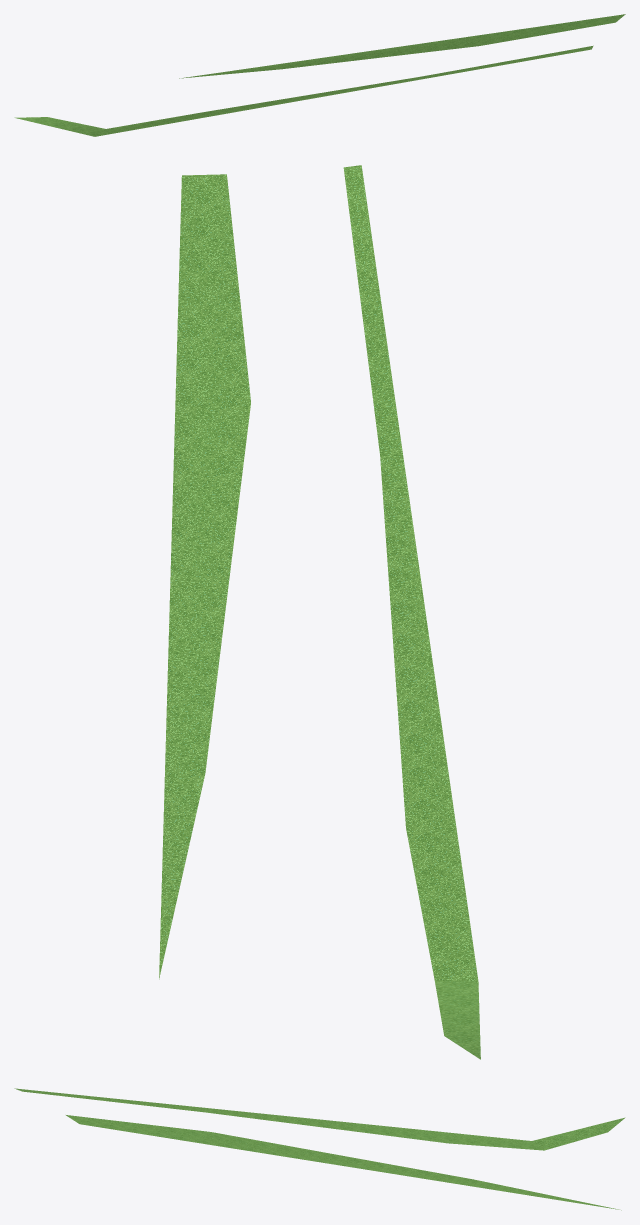
File: kd_stage_1364a3_7_28_bounded.glb
3 renders of one model, top to bottom at view 1: azimuth 30°, elevation 25°; view 2: azimuth 150°, elevation 25°; view 3: azimuth 270°, elevation 25°, orthographic. The views are drawn at different scales.
Visible parts, largest first — view 1: kd_stage_1364a3_7_28_bounded; view 2: kd_stage_1364a3_7_28_bounded; view 3: kd_stage_1364a3_7_28_bounded.
Part boxes in pixels (x1,y1,x2,y2): kd_stage_1364a3_7_28_bounded: (14, 14, 625, 136); kd_stage_1364a3_7_28_bounded: (159, 165, 480, 1059); kd_stage_1364a3_7_28_bounded: (14, 1088, 625, 1210).
Size of the model in its own units: 57.54 by 26 by 67.79.
1 material, 1 textured.
